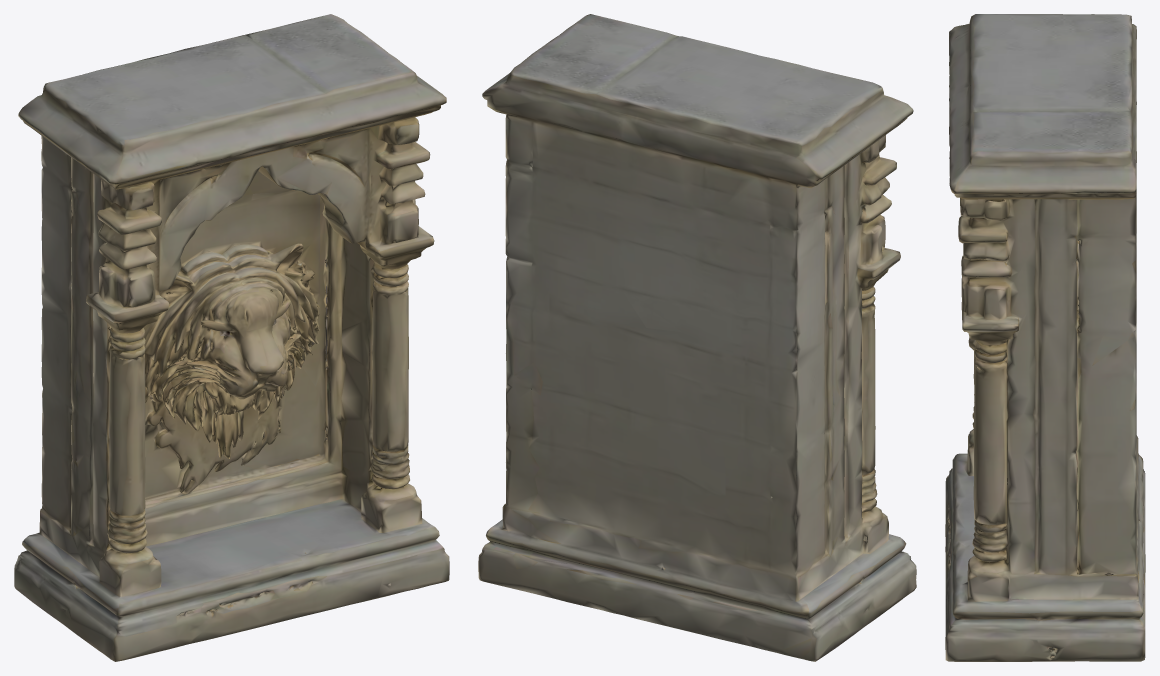
The model's file is wall-niche-recessed-animal-line-art-optimized.glb.
The picture shows the model from 3 angles, left to right: view 1: azimuth 30°, elevation 25°; view 2: azimuth 150°, elevation 25°; view 3: azimuth 270°, elevation 25°; orthographic projection. The views are drawn at different scales.
Visible parts, largest first — view 1: world; view 2: world; view 3: world.
Part boxes in pixels (x1,y1,x2,y2): world: [14, 14, 449, 661]; world: [478, 14, 916, 661]; world: [945, 14, 1145, 661].
Bounding box in the file's own units: 1.26 × 1.8 × 0.6529.
Materials: 1 (1 with a texture image).
